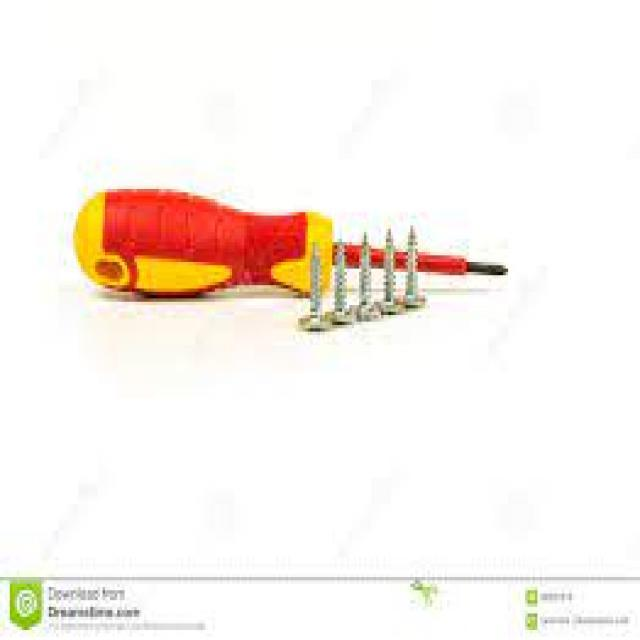screwdriver: (73, 187, 525, 307)
